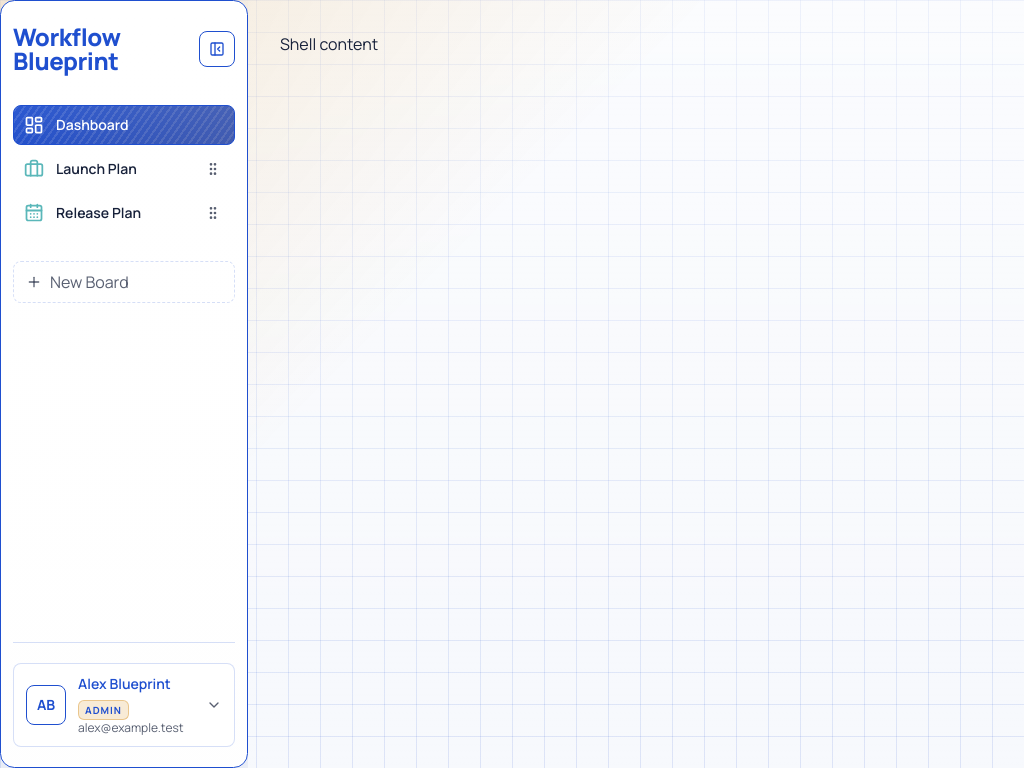
Test case: AppShell account menu › surfaces an Invitations link for an admin
Click the button with aria-label "Account menu" at (124, 705), box [13,663,235,747]
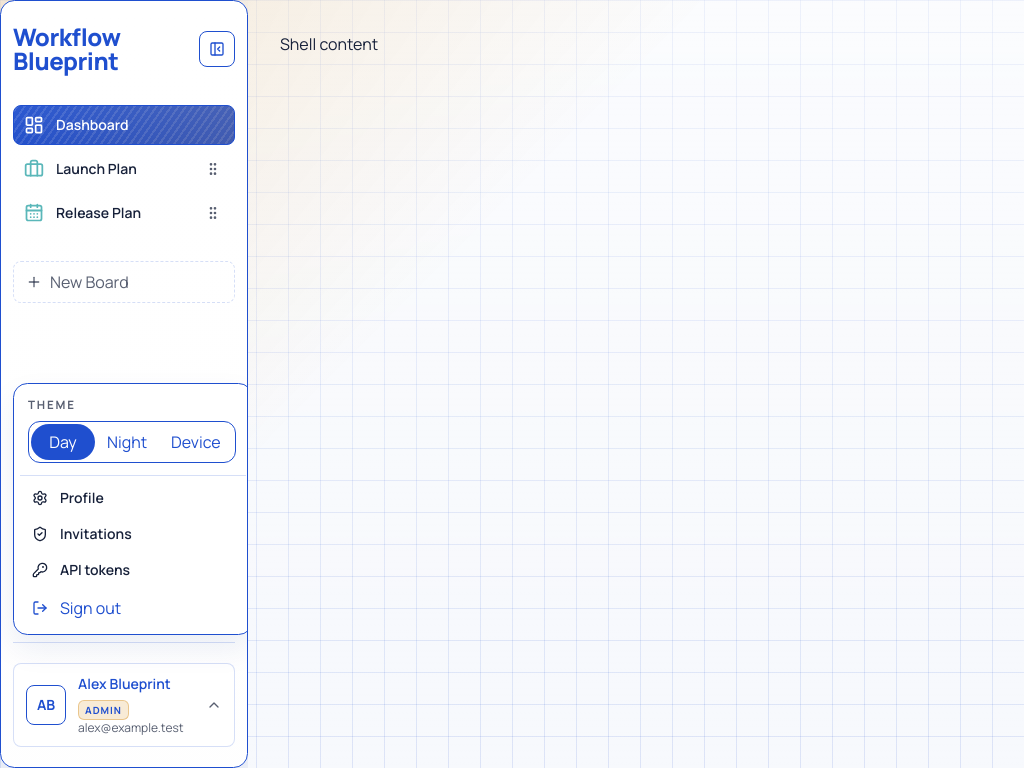
expect the menu item "Invitations" is shown: met, box [32,524,132,543]
